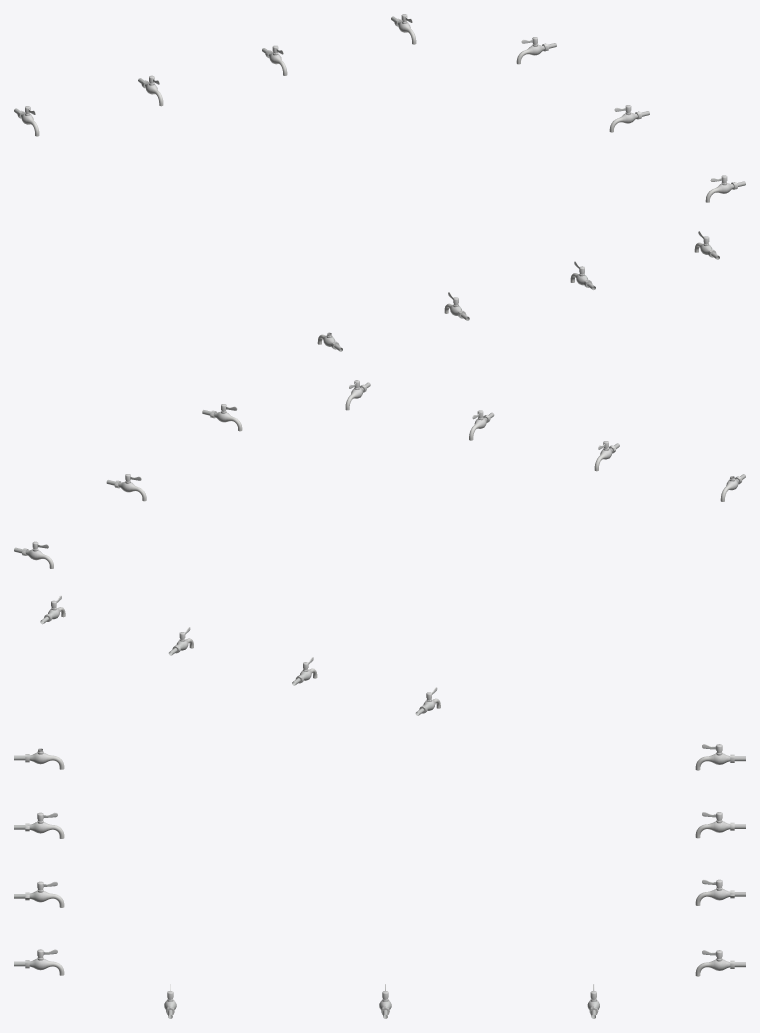
File: LouDao-41.FBX
3 views of the same model, one above another, from view 1: azimuth 30°, elevation 25°; view 2: azimuth 150°, elevation 25°; view 3: azimuth 270°, elevation 25° (orthographic). The views are drawn at different scales.
Visible parts, largest first — view 1: LouDao-41; view 2: LouDao-41; view 3: LouDao-41.
Boxes of the visible parts, x1,y1,x2,y2 form: LouDao-41: (14,14,745,351); LouDao-41: (14,380,745,715); LouDao-41: (14,744,745,1018).
Bounding box in the file's own units: 2.54 × 0.1149 × 3.
Materials: 1 (1 with a texture image).
